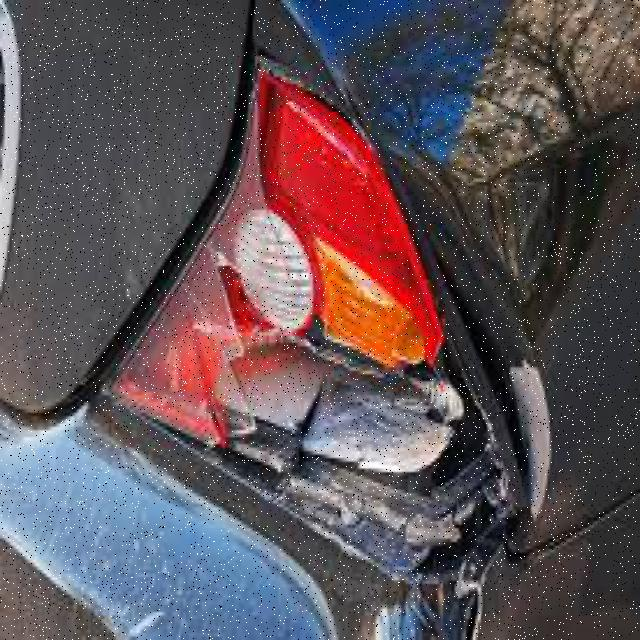Taillight-Damage: (121, 39, 534, 592)
